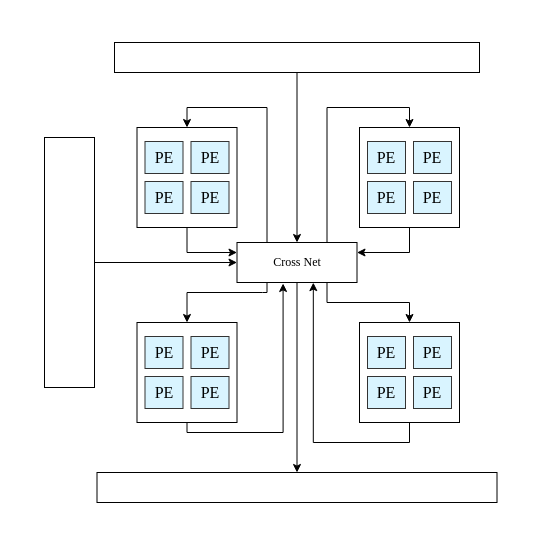
Image size: 549x549. Some labels were removed from this diagram. The shapes that lost their labels are listed below. From the top down, each one's centre as x and y in pixels, then its label:
At (x=297, y=57): "Weight Buffer".
At (x=69, y=262): "Input Buffer".
At (x=296, y=487): "Output Buffer".
